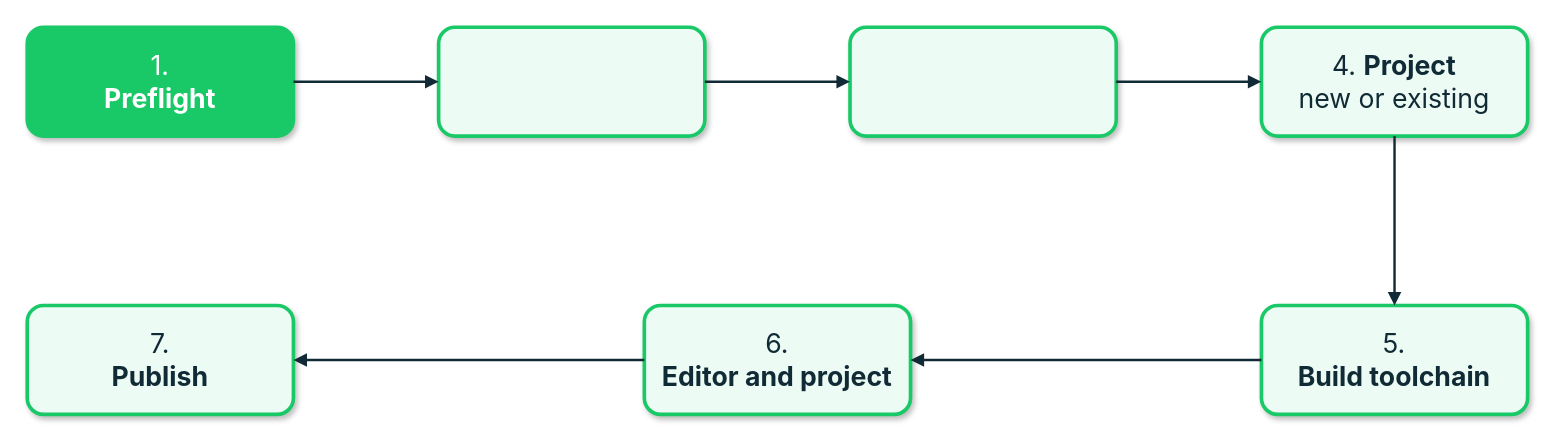
Image size: 1557x445. Some labels were removed from this diagram. The centre of each missing label's shape, as x and y in pixels:
2. Core tools: point (572, 83)
3. Git and host: point (984, 83)
